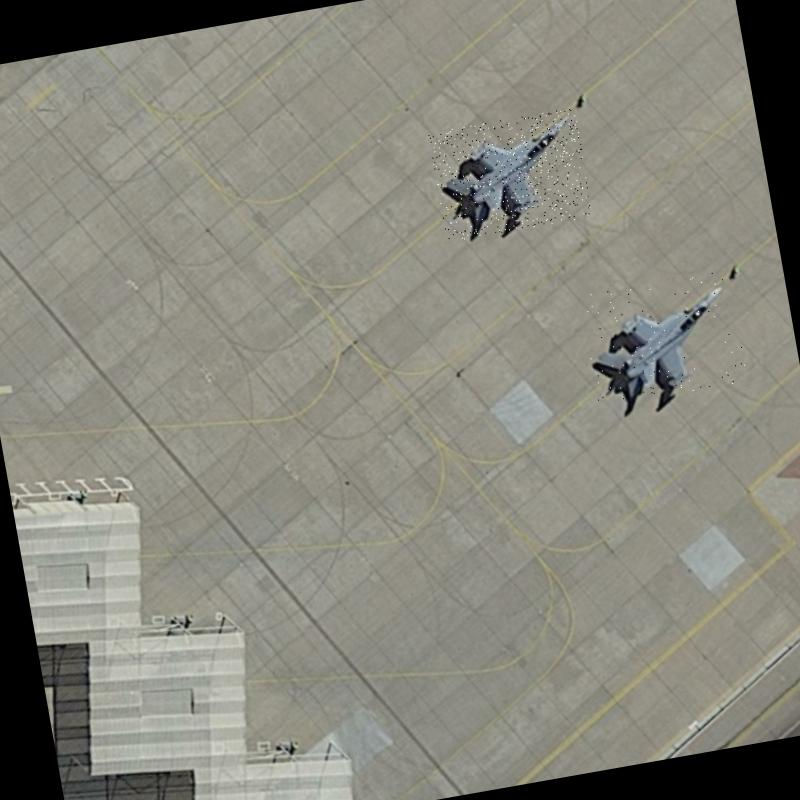A16: (578, 269, 750, 409), (428, 108, 594, 242)
